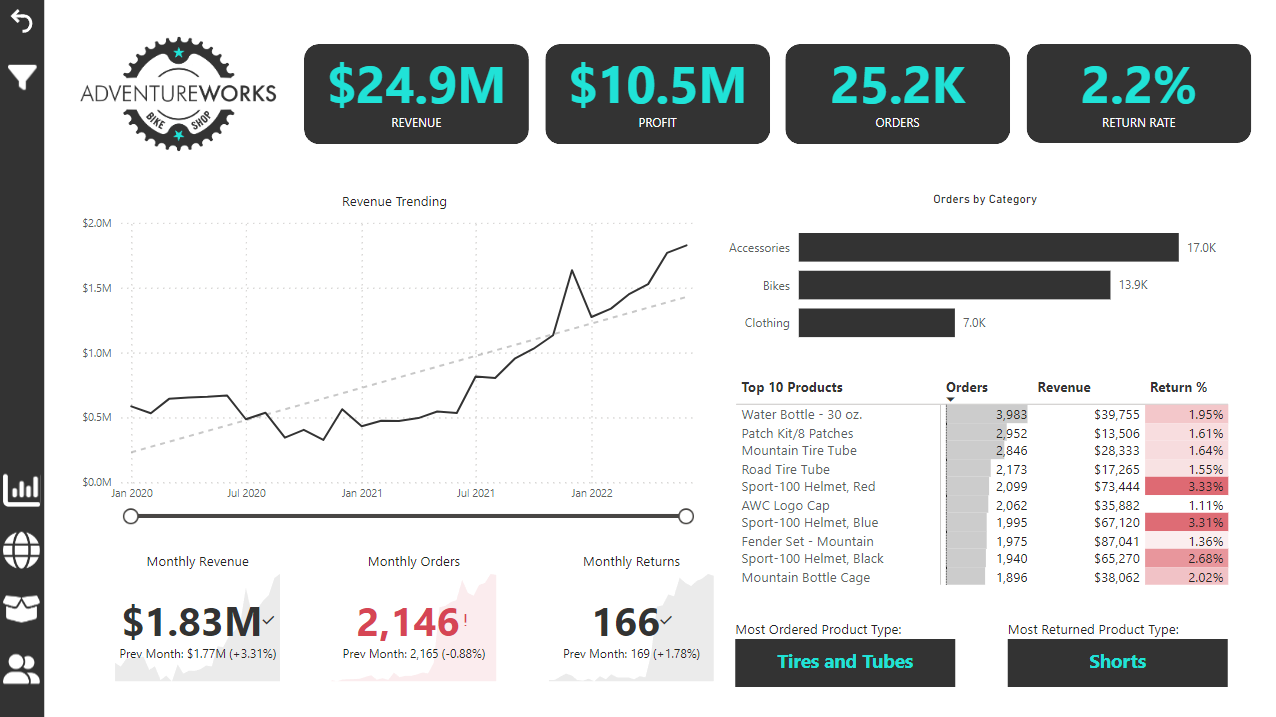

Layout of this report page (visuals, bound fields, positions):
{"tool":"powerbi","page":{"name":"Exec Dashboard","canvas":[1280,720],"ordinal":0},"visuals":[{"type":"shape","title":"Left Nav Background","box":[0,0,45.2,720.2],"z":0},{"type":"card","fields":{"Values":["Measures Table.Total Revenue"]},"box":[292.5,16.2,250,150],"z":0,"group":"g2"},{"type":"group","id":"g1","title":"KPI Background","box":[304.5,45.5,947.7,100.5],"z":0,"group":"g3"},{"type":"shape","box":[304.5,45.5,225,100.3],"z":0,"group":"g1"},{"type":"actionButton","box":[0.3,469,45.2,45.2],"z":0,"group":"g4"},{"type":"group","id":"g2","title":"KPI Values","box":[292.5,16.2,972.5,150],"z":1000,"group":"g3"},{"type":"card","fields":{"Values":["Measures Table.Total Profit"]},"box":[533.3,16.2,250,150],"z":1000,"group":"g2"},{"type":"image","title":"AW Logo","box":[55,24,250,142.5],"z":1000},{"type":"shape","box":[545.4,45.7,225,100.3],"z":1000,"group":"g1"},{"type":"actionButton","box":[0.3,588.1,45.2,45],"z":1000,"group":"g4"},{"type":"group","id":"g3","title":"KPIs","box":[292.5,16.2,972.5,150],"z":2000},{"type":"card","fields":{"Values":["Measures Table.Total Orders"]},"box":[774.2,16.2,250,150],"z":2000,"group":"g2"},{"type":"shape","box":[786.3,45.7,225,100.3],"z":2000,"group":"g1"},{"type":"actionButton","box":[0.3,647.5,45.2,45],"z":2000,"group":"g4"},{"type":"card","fields":{"Values":["Measures Table.Return Rate"]},"box":[1015,16.2,250,150],"z":3000,"group":"g2"},{"type":"shape","box":[1027.2,45.5,225,99],"z":3000,"group":"g1"},{"type":"lineChart","title":"Revenue Trending","fields":{"Y":["Measures Table.Total Revenue"],"Category":["Calendar Lookup.Year","Calendar Lookup.Start of Quarter","Calendar Lookup.Start of Month"]},"box":[77.7,192.5,636.2,335],"z":3000},{"type":"actionButton","box":[0.3,528.7,45.2,45],"z":3000,"group":"g4"},{"type":"kpi","title":"Monthly Revenue","fields":{"Indicator":["Measures Table.Total Revenue"],"TrendLine":["Calendar Lookup.Start of Month"],"Goal":["Measures Table.Previous Month Revenue"]},"box":[111.2,552.1,175,135],"z":4000},{"type":"kpi","title":"Monthly Orders","fields":{"TrendLine":["Calendar Lookup.Start of Month"],"Indicator":["Measures Table.Total Orders"],"Goal":["Measures Table.Previous Month Orders"]},"box":[328,552.1,175,135],"z":5000},{"type":"kpi","title":"Monthly Returns","fields":{"TrendLine":["Calendar Lookup.Start of Month"],"Indicator":["Measures Table.Total Returns"],"Goal":["Measures Table.Previous Month Returns"]},"box":[544.8,552.1,175,135],"z":6000},{"type":"barChart","title":"Orders by Category","fields":{"Category":["Product Categories Lookup.CategoryName"],"Y":["Measures Table.Total Orders"]},"box":[720,192.5,532.5,167.5],"z":7000},{"type":"pivotTable","fields":{"Rows":["Product Lookup.ProductName"],"Values":["Measures Table.Total Orders","Measures Table.Total Revenue","Measures Table.Return Rate"]},"box":[732.5,374.2,519.7,222.6],"z":8000},{"type":"card","fields":{"Values":["Min(Product Subcategories Lookup.SubcategoryName)"]},"box":[736.4,639.5,220.1,47.7],"z":9000},{"type":"textbox","box":[731.3,616.3,187.1,39.1],"z":10000},{"type":"card","fields":{"Values":["Min(Product Subcategories Lookup.SubcategoryName)"]},"box":[1009.1,639.5,220.1,47.7],"z":11000},{"type":"textbox","box":[1003.9,616.3,193.2,39.1],"z":12000},{"type":"actionButton","box":[6.1,1.2,33,40.4],"z":13000},{"type":"group","id":"g4","title":"Nav Buttons","box":[0.3,469,45.2,223.5],"z":14000},{"type":"actionButton","box":[4.9,59.9,45.2,36.7],"z":15000}]}

Visuals, with their boxes on the page's 1280x720 design canvas (x1, y1, x2, y2). These are canvas units, not pixel positions in the 1276x717 screenshot, which may show the page scaled, cropped or inside an application window:
"Left Nav Background" shape: x1=0, y1=0, x2=45, y2=720
card - Measures Table.Total Revenue: x1=292, y1=16, x2=542, y2=166
"KPI Background" group: x1=304, y1=46, x2=1252, y2=146
shape: x1=304, y1=46, x2=530, y2=146
actionButton: x1=0, y1=469, x2=46, y2=514
"KPI Values" group: x1=292, y1=16, x2=1265, y2=166
card - Measures Table.Total Profit: x1=533, y1=16, x2=783, y2=166
"AW Logo" image: x1=55, y1=24, x2=305, y2=166
shape: x1=545, y1=46, x2=770, y2=146
actionButton: x1=0, y1=588, x2=46, y2=633
"KPIs" group: x1=292, y1=16, x2=1265, y2=166
card - Measures Table.Total Orders: x1=774, y1=16, x2=1024, y2=166
shape: x1=786, y1=46, x2=1011, y2=146
actionButton: x1=0, y1=648, x2=46, y2=692
card - Measures Table.Return Rate: x1=1015, y1=16, x2=1265, y2=166
shape: x1=1027, y1=46, x2=1252, y2=144
"Revenue Trending" lineChart: x1=78, y1=192, x2=714, y2=528
actionButton: x1=0, y1=529, x2=46, y2=574
"Monthly Revenue" kpi: x1=111, y1=552, x2=286, y2=687
"Monthly Orders" kpi: x1=328, y1=552, x2=503, y2=687
"Monthly Returns" kpi: x1=545, y1=552, x2=720, y2=687
"Orders by Category" barChart: x1=720, y1=192, x2=1252, y2=360
pivotTable - Product Lookup.ProductName x Measures Table.Total Orders: x1=732, y1=374, x2=1252, y2=597
card - Min(Product Subcategories Lookup.SubcategoryName): x1=736, y1=640, x2=956, y2=687
textbox: x1=731, y1=616, x2=918, y2=655
card - Min(Product Subcategories Lookup.SubcategoryName): x1=1009, y1=640, x2=1229, y2=687
textbox: x1=1004, y1=616, x2=1197, y2=655
actionButton: x1=6, y1=1, x2=39, y2=42
"Nav Buttons" group: x1=0, y1=469, x2=46, y2=692
actionButton: x1=5, y1=60, x2=50, y2=97
